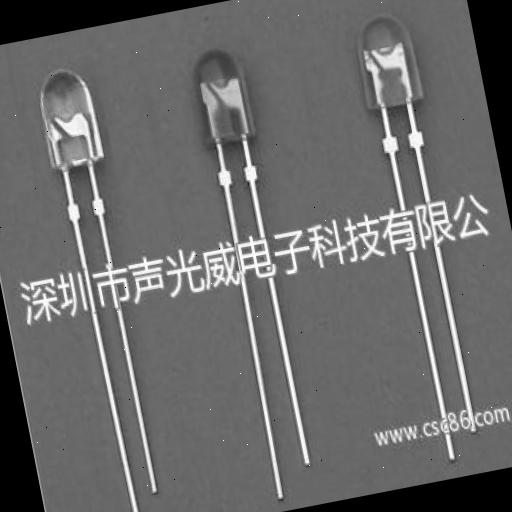LED: (155, 21, 370, 479), (5, 44, 186, 494), (343, 2, 496, 444)
